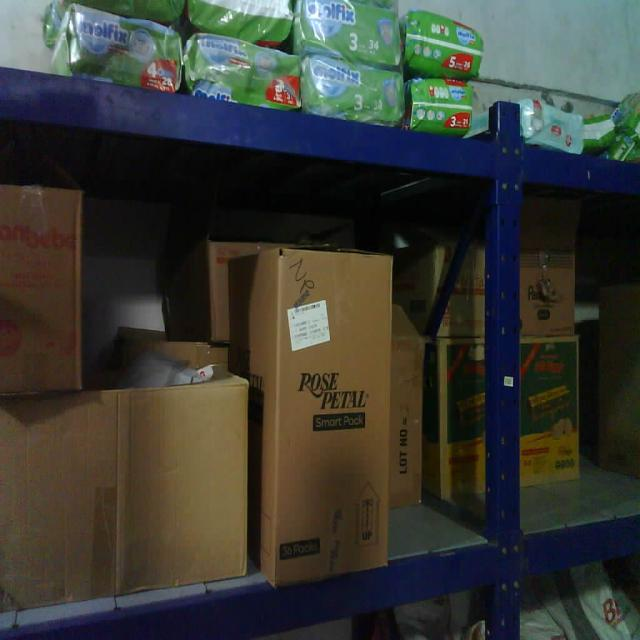box: (0, 384, 251, 602), (277, 246, 389, 583), (0, 185, 81, 387)
